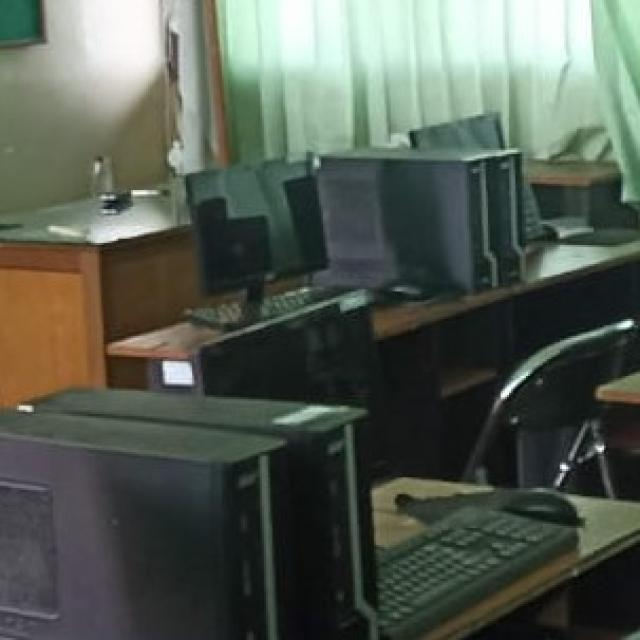offscreen: (189, 164, 329, 294)
